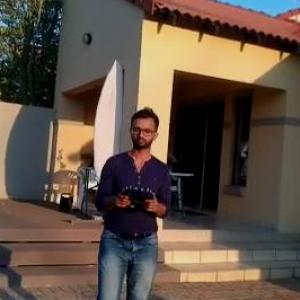follow: (92, 104, 174, 299)
